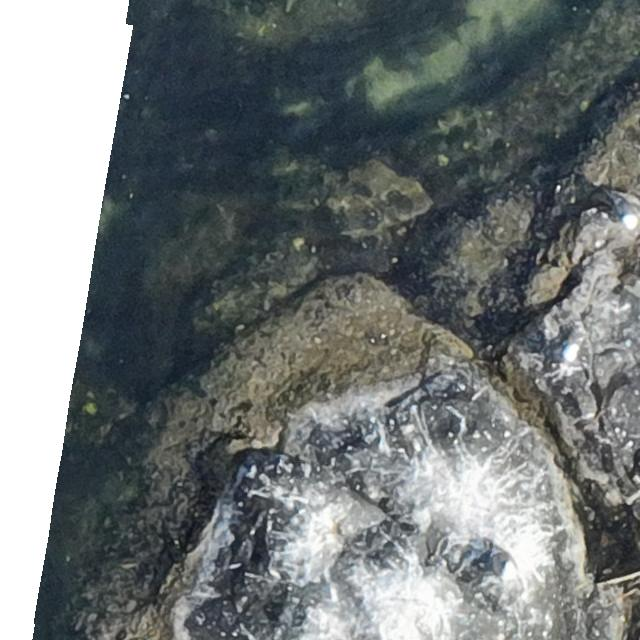umineko: (610, 188, 636, 233), (488, 555, 518, 580)
